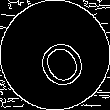O_NW: (23, 22, 87, 88)
